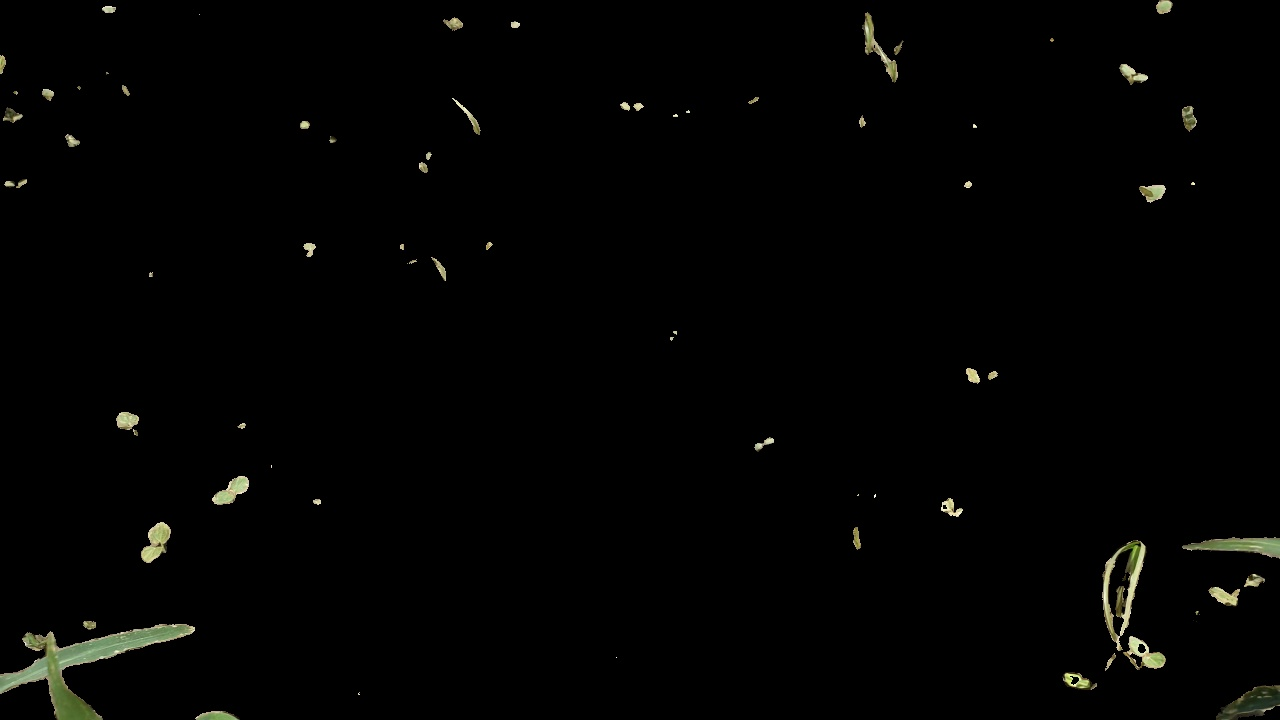crop: (1, 609, 223, 720)
weed: (205, 472, 255, 511), (138, 511, 175, 562), (106, 409, 152, 442), (1128, 635, 1169, 672), (956, 361, 1001, 392), (925, 489, 968, 521), (1119, 58, 1149, 91), (752, 437, 792, 455)
